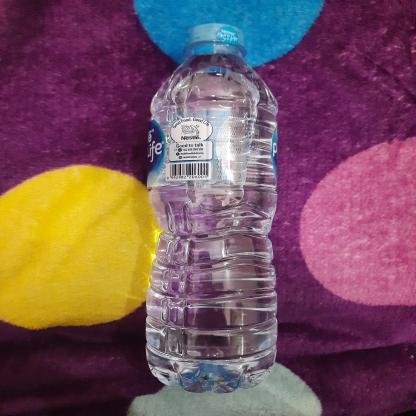plastic: (137, 21, 286, 397)
